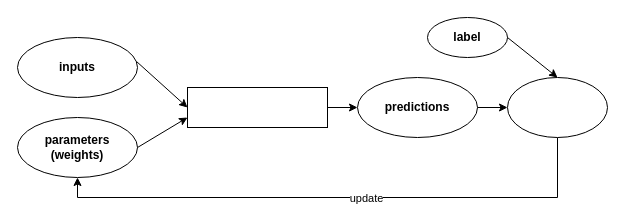
Some shapes in this 625 by 223 pixel diagram are drawn without their labels. Here are the shapes that lost their labels. From the top down, the centre of each, then its label:
At point (257, 107): "model".
At point (557, 107): "loss".
